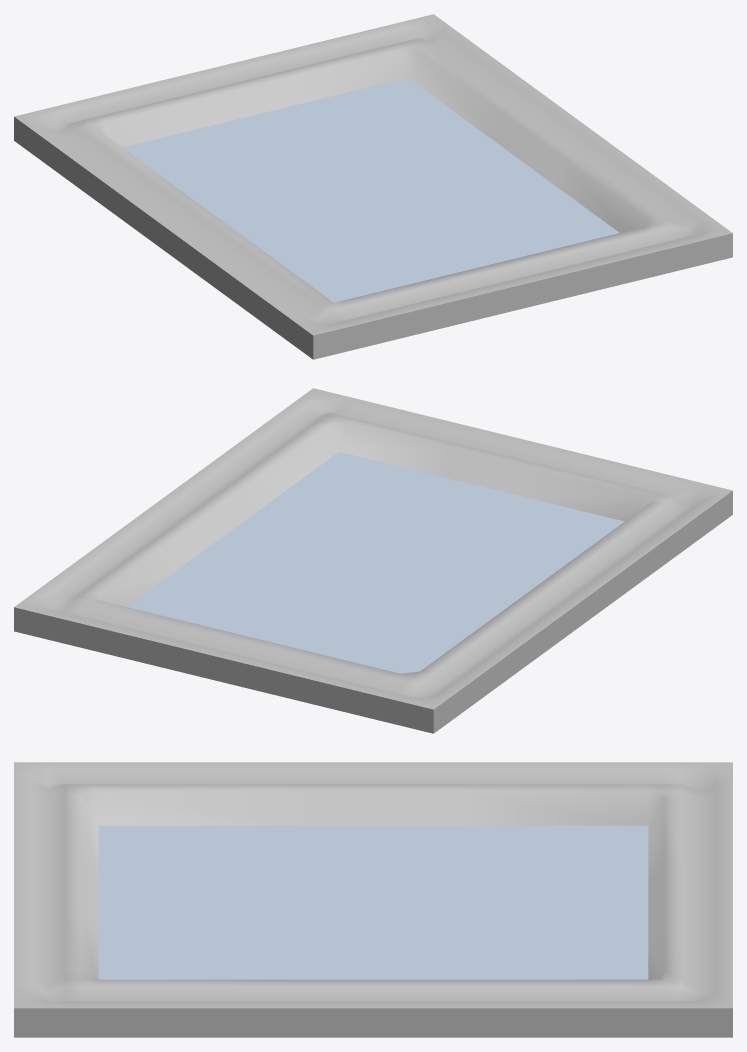
File: Picture_dish.FBX
3 renders of one model, top to bottom at view 1: azimuth 30°, elevation 25°; view 2: azimuth 150°, elevation 25°; view 3: azimuth 270°, elevation 25°, orthographic. The views are drawn at different scales.
Parts seen in each view (by area): view 1: Ramp, Picture; view 2: Ramp, Picture; view 3: Ramp, Picture.
Boxes of the visible parts, <box> form: Ramp: <box>14,14,732,359</box>; Picture: <box>122,78,619,302</box>; Ramp: <box>14,388,732,733</box>; Picture: <box>127,452,624,673</box>; Ramp: <box>14,762,732,1037</box>; Picture: <box>98,825,648,979</box>.
Size of the model in its own units: 17 by 0.9358 by 21.
